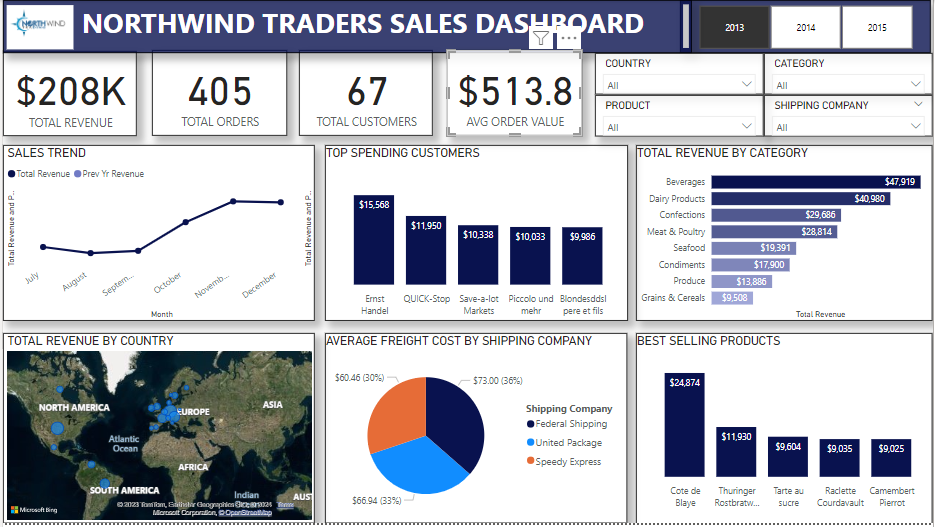

Layout of this report page (visuals, bound fields, positions):
{"tool":"powerbi","page":{"name":"Sales","canvas":[1280,720],"ordinal":0},"visuals":[{"type":"slicer","fields":{"Values":["Calendar.Year"]},"box":[931.3,0,344.6,73.3],"z":0},{"type":"card","fields":{"Values":["order_details.Total Revenue"]},"box":[0,70.6,185,114],"z":1000},{"type":"card","fields":{"Values":["order_details.Total Orders"]},"box":[204.8,69.2,185.4,114.9],"z":2000},{"type":"card","fields":{"Values":["customers.Total Customers"]},"box":[406.8,69.2,185.4,114.9],"z":3000},{"type":"card","fields":{"Values":["order_details.Avg Order Value"]},"box":[611.6,69.2,185.4,114.9],"z":4000},{"type":"lineChart","title":"SALES TREND","fields":{"Category":["Calendar.Month"],"Y":["order_details.Total Revenue"],"Y2":["Calendar.Prev Yr Revenue"]},"box":[0,199.6,429.4,242.2],"z":5000},{"type":"barChart","title":"TOTAL REVENUE BY CATEGORY","fields":{"Category":["categories.categoryName"],"Y":["order_details.Total Revenue"]},"box":[871.8,199.3,408.2,242.2],"z":6000},{"type":"pieChart","title":"AVERAGE FREIGHT COST BY SHIPPING COMPANY","fields":{"Category":["shippers.companyName"],"Y":["Avg(orders.freight)"]},"box":[443.2,458.3,415.7,261.5],"z":7000},{"type":"textbox","box":[0,0,947.9,73.3],"z":8000},{"type":"image","box":[0,0,102.5,73.9],"z":9000},{"type":"columnChart","title":"TOP SPENDING CUSTOMERS","fields":{"Category":["customers.companyName"],"Y":["order_details.Total Revenue"]},"box":[442.8,199.3,416.5,242.2],"z":10000},{"type":"clusteredColumnChart","title":"BEST SELLING PRODUCTS","fields":{"Category":["products.productName"],"Y":["order_details.Total Revenue"]},"box":[871.8,458,408.2,262.9],"z":11000},{"type":"slicer","fields":{"Values":["customers.country"]},"box":[815,73.3,232.5,56.7],"z":12000},{"type":"slicer","fields":{"Values":["products.productName"]},"box":[815,130.1,232.5,56.7],"z":13000},{"type":"slicer","fields":{"Values":["categories.categoryName"]},"box":[1047.5,73.3,232.5,56.7],"z":14000},{"type":"map","title":"TOTAL REVENUE BY COUNTRY","fields":{"Category":["customers.country"],"Size":["order_details.Total Revenue"]},"box":[0,458.3,429.4,261.5],"z":15000},{"type":"slicer","fields":{"Values":["shippers.companyName"]},"box":[1047.5,130.1,232.5,56.7],"z":16000}]}

Visuals, with their boxes in screenshot pixels (x1, y1, x2, y2), scaled from the page's 1280x720 canvas onto the 935x527 screenshot:
slicer - Calendar.Year: [left=680, top=0, right=932, bottom=54]
card - order_details.Total Revenue: [left=0, top=52, right=135, bottom=135]
card - order_details.Total Orders: [left=150, top=51, right=285, bottom=135]
card - customers.Total Customers: [left=297, top=51, right=433, bottom=135]
card - order_details.Avg Order Value: [left=447, top=51, right=582, bottom=135]
"SALES TREND" lineChart: [left=0, top=146, right=314, bottom=323]
"TOTAL REVENUE BY CATEGORY" barChart: [left=637, top=146, right=934, bottom=323]
"AVERAGE FREIGHT COST BY SHIPPING COMPANY" pieChart: [left=324, top=335, right=627, bottom=526]
textbox: [left=0, top=0, right=692, bottom=54]
image: [left=0, top=0, right=75, bottom=54]
"TOP SPENDING CUSTOMERS" columnChart: [left=323, top=146, right=628, bottom=323]
"BEST SELLING PRODUCTS" clusteredColumnChart: [left=637, top=335, right=934, bottom=526]
slicer - customers.country: [left=595, top=54, right=765, bottom=95]
slicer - products.productName: [left=595, top=95, right=765, bottom=137]
slicer - categories.categoryName: [left=765, top=54, right=934, bottom=95]
"TOTAL REVENUE BY COUNTRY" map: [left=0, top=335, right=314, bottom=526]
slicer - shippers.companyName: [left=765, top=95, right=934, bottom=137]
